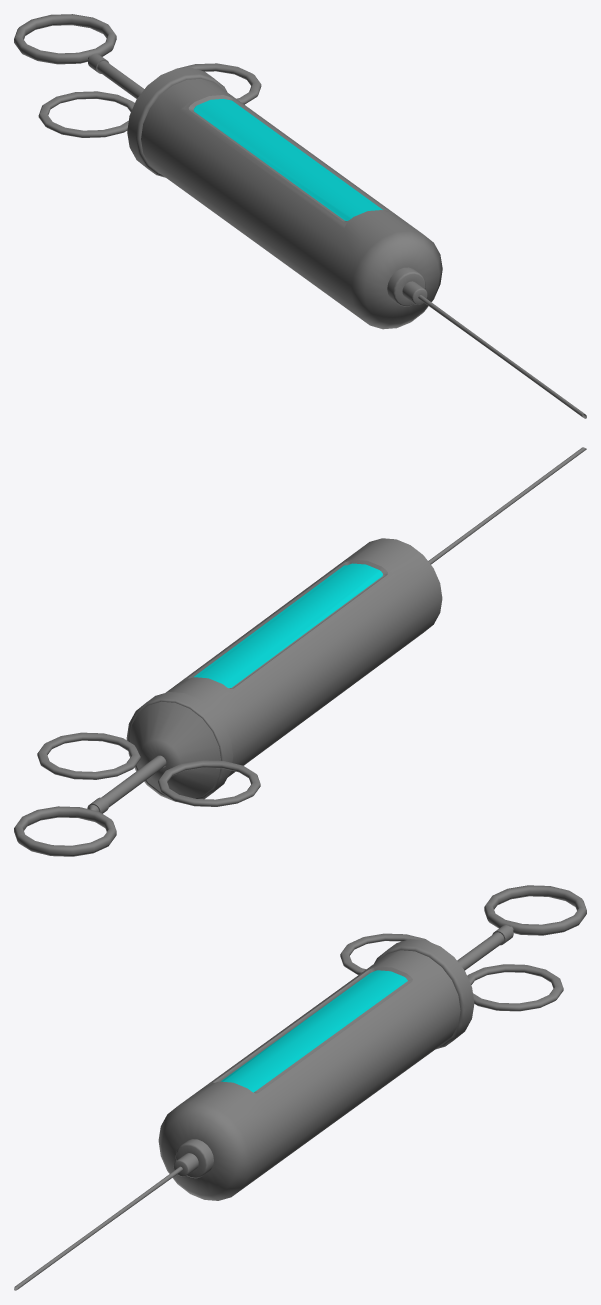
File: Syringe_Var2.fbx
The picture shows the model from 3 angles, top to bottom: view 1: azimuth 30°, elevation 25°; view 2: azimuth 150°, elevation 25°; view 3: azimuth 330°, elevation 25°; orthographic projection.
Parts seen in each view (by area): view 1: polySurface6; view 2: polySurface6; view 3: polySurface6.
Part boxes in pixels (x1,y1,x2,y2): polySurface6: (14, 14, 586, 418); polySurface6: (14, 447, 586, 856); polySurface6: (14, 885, 586, 1290).
Bounding box in the file's own units: 8.21 × 3.84 × 37.06.
